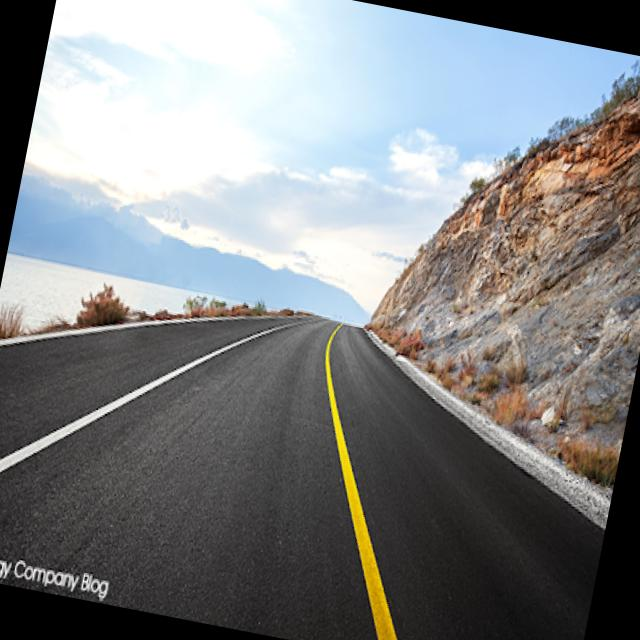asphalt: (0, 316, 605, 640)
cement: (367, 332, 612, 529)
grass: (418, 355, 622, 491), (0, 284, 153, 338), (177, 297, 311, 318), (379, 330, 423, 360)
rocks: (372, 90, 640, 440)
